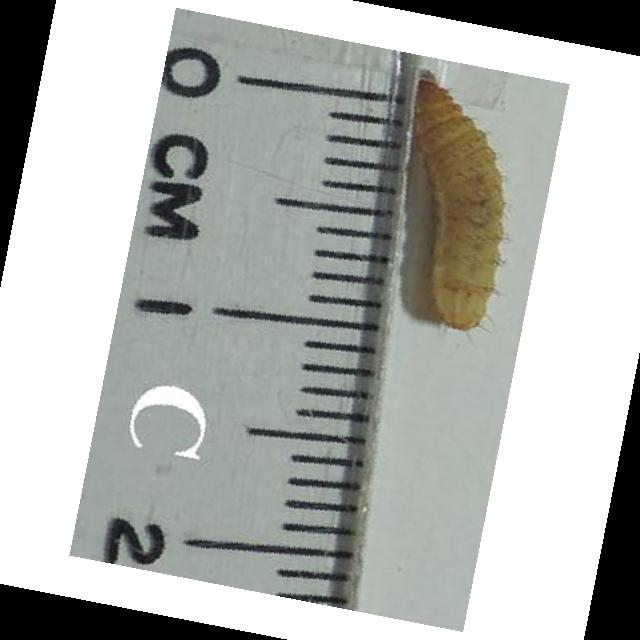Maggot: (409, 67, 502, 327)
